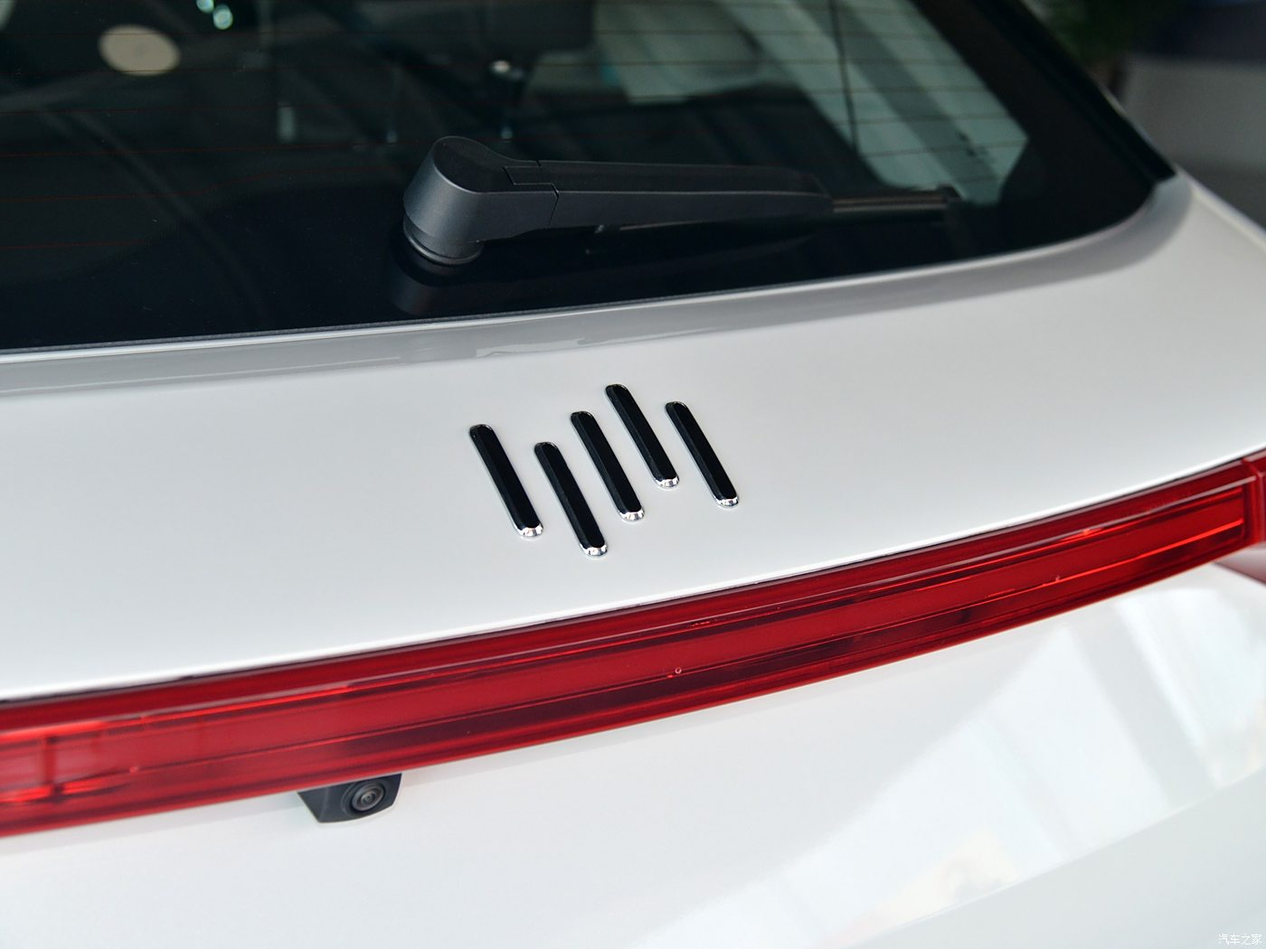WELTMEISTER: (468, 384, 737, 554)
